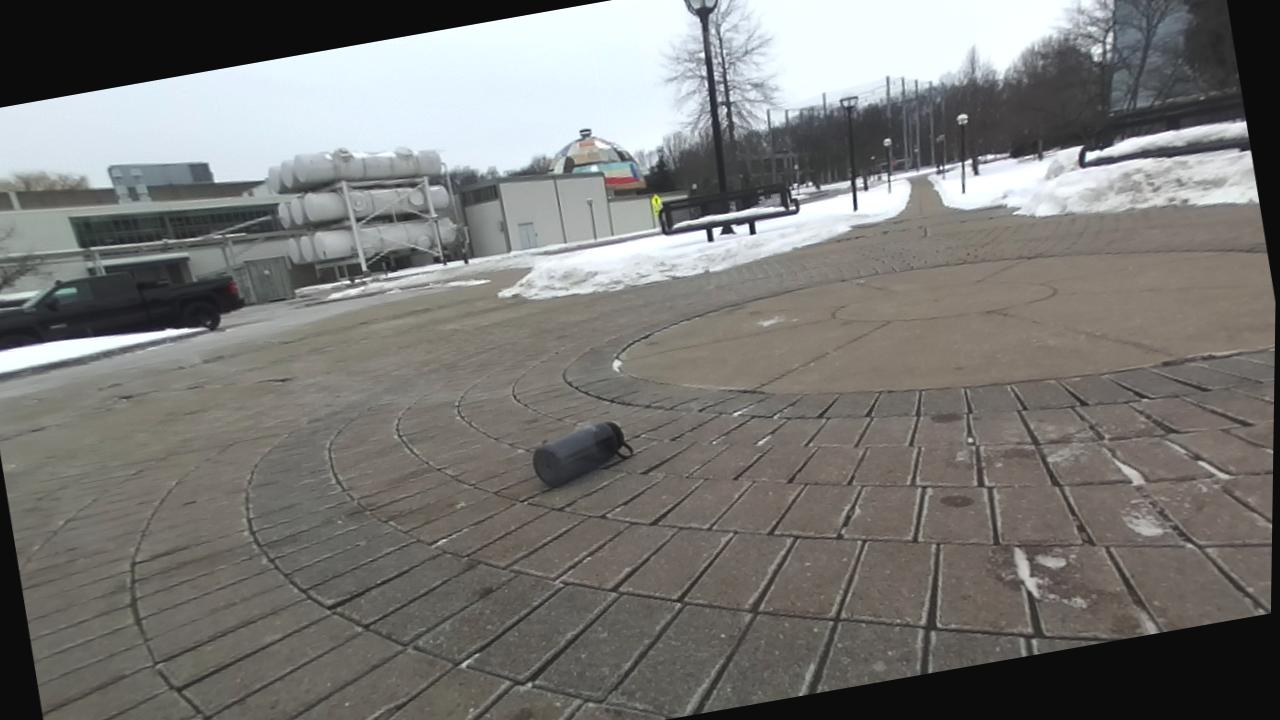bottle: (532, 421, 633, 487)
